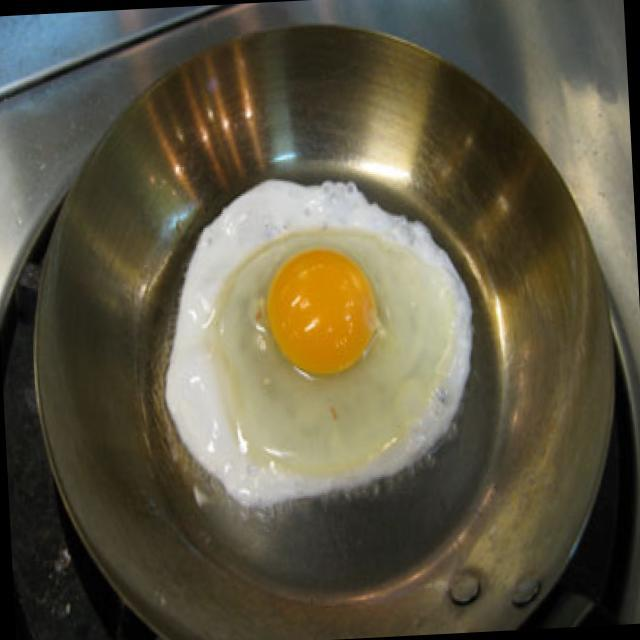Egg: (150, 155, 487, 528)
